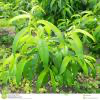Peach leaf: (36, 19, 65, 45), (12, 27, 35, 58), (15, 57, 30, 88), (37, 35, 49, 73), (68, 40, 84, 66), (35, 67, 49, 94), (70, 31, 82, 54), (31, 50, 41, 77), (51, 65, 63, 87), (59, 55, 71, 76), (49, 52, 61, 73), (49, 66, 56, 93), (2, 70, 10, 88), (71, 60, 78, 80), (48, 38, 70, 44)
